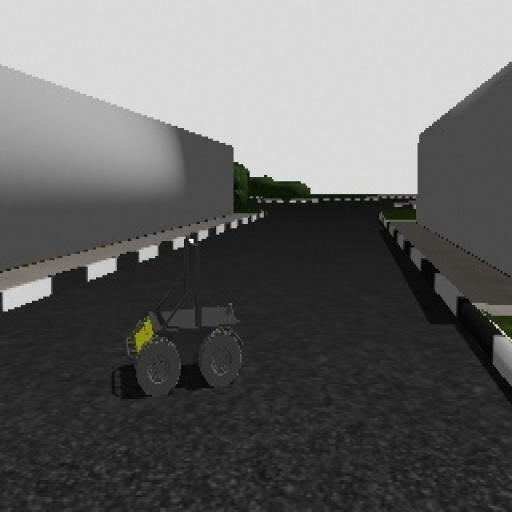huskya200: (106, 213, 263, 415)
